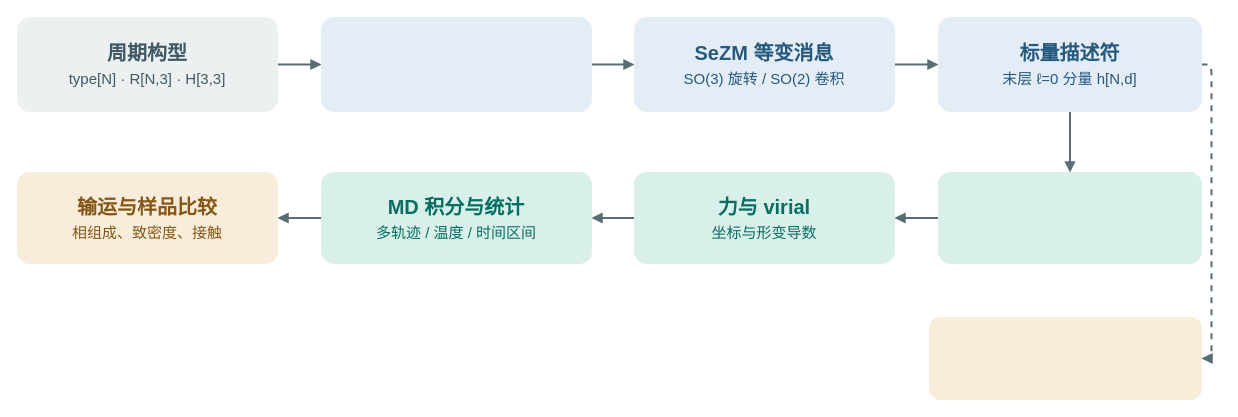
This 1238x417 diagram has some shape labels left out. Each missing label, with the centre of its shape:
原子能量头 各原子 eᵢ 求和为总能 E: (1070,218)
可选性质任务 冻结表示，另配性质标签: (1065,358)
邻域与边局部坐标 径向基、截断、邻居掩码: (456,64)
